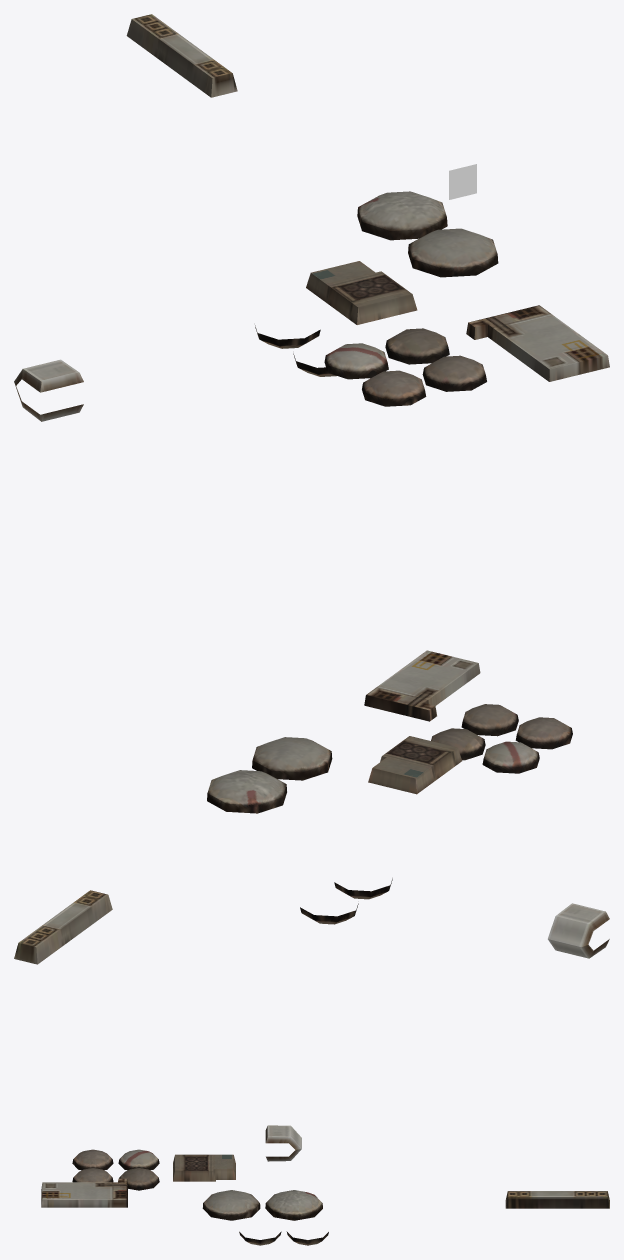
Rendered from prop_static_tr1_container_01_11.glb.
3 views of the same model, one above another, from view 1: azimuth 30°, elevation 25°; view 2: azimuth 150°, elevation 25°; view 3: azimuth 270°, elevation 25° (orthographic). The views are drawn at different scales.
Parts seen in each view (by area): view 1: tr1_container_01_11_mat01a_LOD0, NavLight_Cargo_fx_Green; view 2: tr1_container_01_11_mat01a_LOD0; view 3: tr1_container_01_11_mat01a_LOD0.
Part boxes in pixels (x1,y1,x2,y2): tr1_container_01_11_mat01a_LOD0: (14,14,609,421); NavLight_Cargo_fx_Green: (449,164,476,199); tr1_container_01_11_mat01a_LOD0: (14,650,609,964); tr1_container_01_11_mat01a_LOD0: (41,1125,609,1245).
Size of what is drawn, in the model's own units: 2.84 by 2.33 by 5.58.
Materials: 2 (1 with a texture image).
